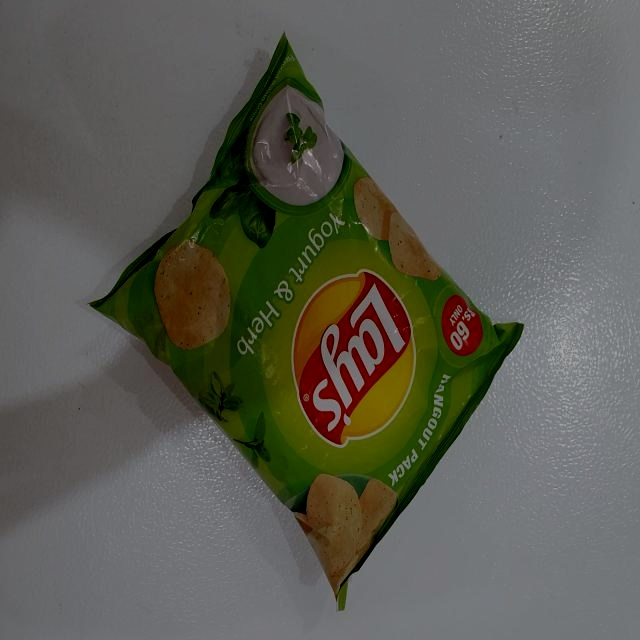lays-large: (125, 78, 507, 576)
